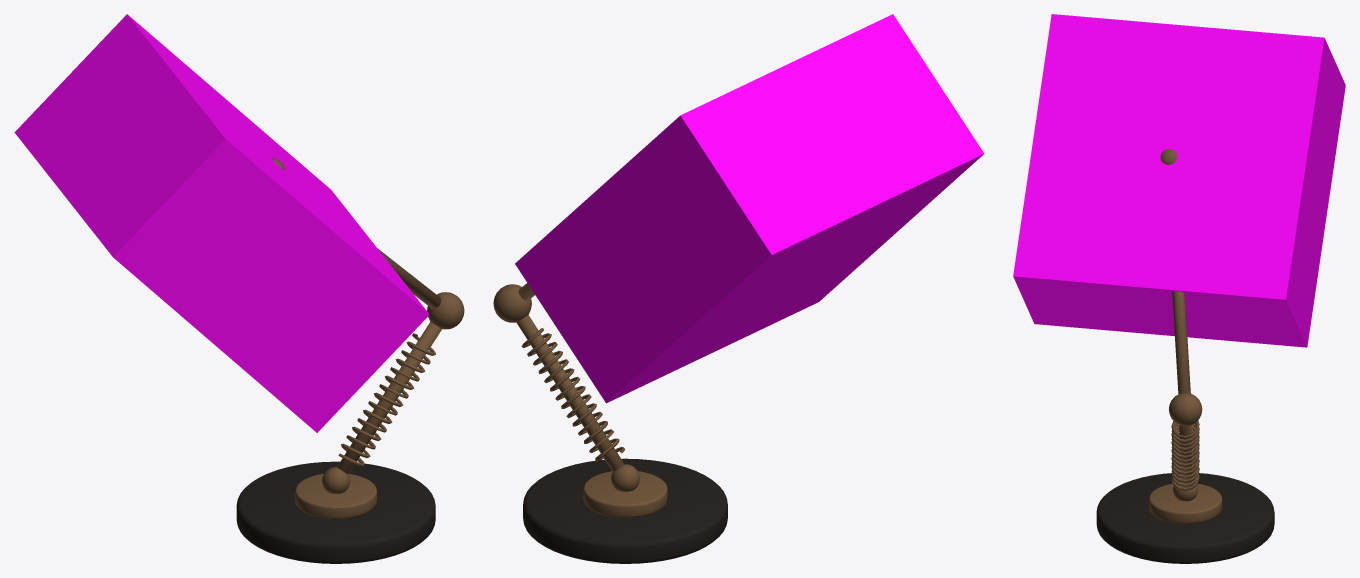
Rendered from desk-lamp.glb.
3 views of the same model, side by side, from view 1: azimuth 30°, elevation 25°; view 2: azimuth 150°, elevation 25°; view 3: azimuth 270°, elevation 25° (orthographic). The views are drawn at different scales.
Parts seen in each view (by area): view 1: lamp_hit, lamp_base, lamp_base_cap, lamp_spring, lamp_arm_lower, lamp_joint_elbow, lamp_arm_upper, lamp_joint_base; view 2: lamp_hit, lamp_base, lamp_base_cap, lamp_spring, lamp_arm_lower, lamp_joint_elbow, lamp_joint_base; view 3: lamp_hit, lamp_base, lamp_base_cap, lamp_spring, lamp_arm_upper, lamp_joint_elbow.
Part boxes in pixels (x1=…): lamp_hit: x1=14, y1=14, x2=429, y2=432; lamp_base: x1=236, y1=461, x2=435, y2=563; lamp_base_cap: x1=295, y1=473, x2=376, y2=518; lamp_spring: x1=338, y1=333, x2=435, y2=466; lamp_arm_lower: x1=337, y1=322, x2=441, y2=474; lamp_joint_elbow: x1=427, y1=292, x2=464, y2=329; lamp_arm_upper: x1=378, y1=249, x2=441, y2=308; lamp_joint_base: x1=322, y1=467, x2=349, y2=493; lamp_hit: x1=515, y1=14, x2=984, y2=403; lamp_base: x1=523, y1=458, x2=727, y2=563; lamp_base_cap: x1=583, y1=471, x2=667, y2=517; lamp_spring: x1=521, y1=328, x2=625, y2=461; lamp_arm_lower: x1=516, y1=315, x2=624, y2=471; lamp_joint_elbow: x1=493, y1=284, x2=531, y2=322; lamp_joint_base: x1=611, y1=464, x2=639, y2=491; lamp_hit: x1=1013, y1=14, x2=1345, y2=347; lamp_base: x1=1096, y1=473, x2=1274, y2=563; lamp_base_cap: x1=1149, y1=483, x2=1222, y2=523; lamp_spring: x1=1171, y1=420, x2=1199, y2=490; lamp_arm_upper: x1=1172, y1=291, x2=1190, y2=394; lamp_joint_elbow: x1=1169, y1=393, x2=1202, y2=425.
Bounding box in the file's own units: 0.4058 × 0.4562 × 0.3177.
